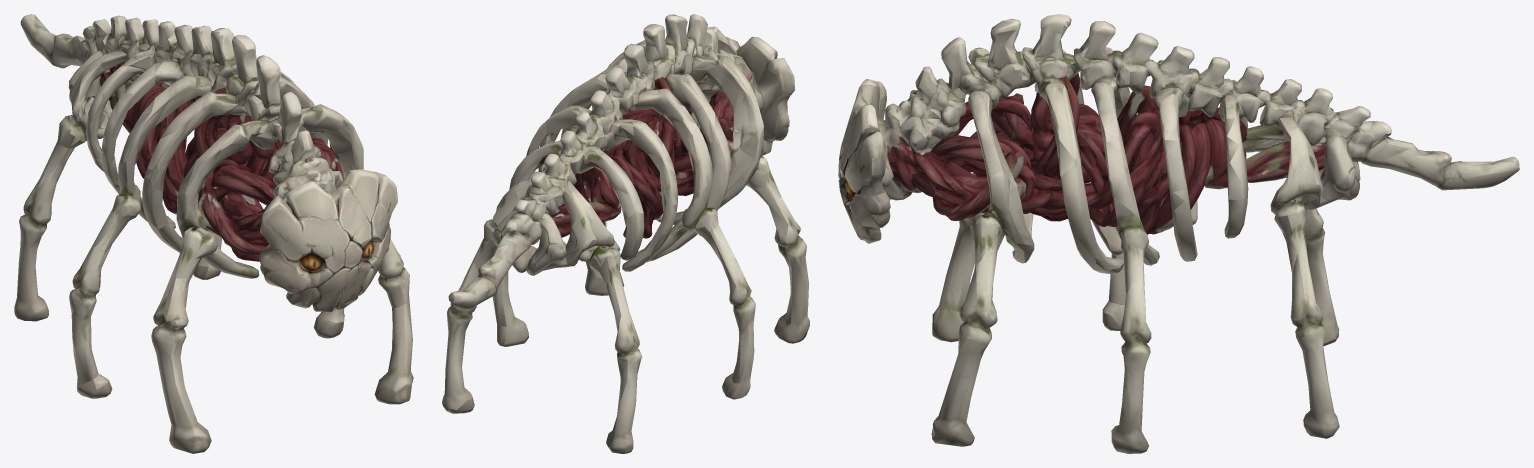
The model's file is drakkudor.glb.
3 views of the same model, side by side, from view 1: azimuth 30°, elevation 25°; view 2: azimuth 150°, elevation 25°; view 3: azimuth 270°, elevation 25° (orthographic). The views are drawn at different scales.
Parts seen in each view (by area): view 1: Mesh_0; view 2: Mesh_0; view 3: Mesh_0.
Part boxes in pixels (left/top/right/bottom): Mesh_0: left=14, top=14, right=413, bottom=453; Mesh_0: left=442, top=14, right=809, bottom=453; Mesh_0: left=838, top=14, right=1519, bottom=453.
Bounding box in the file's own units: 0.9653 × 1.14 × 1.9.
1 material, 1 textured.
